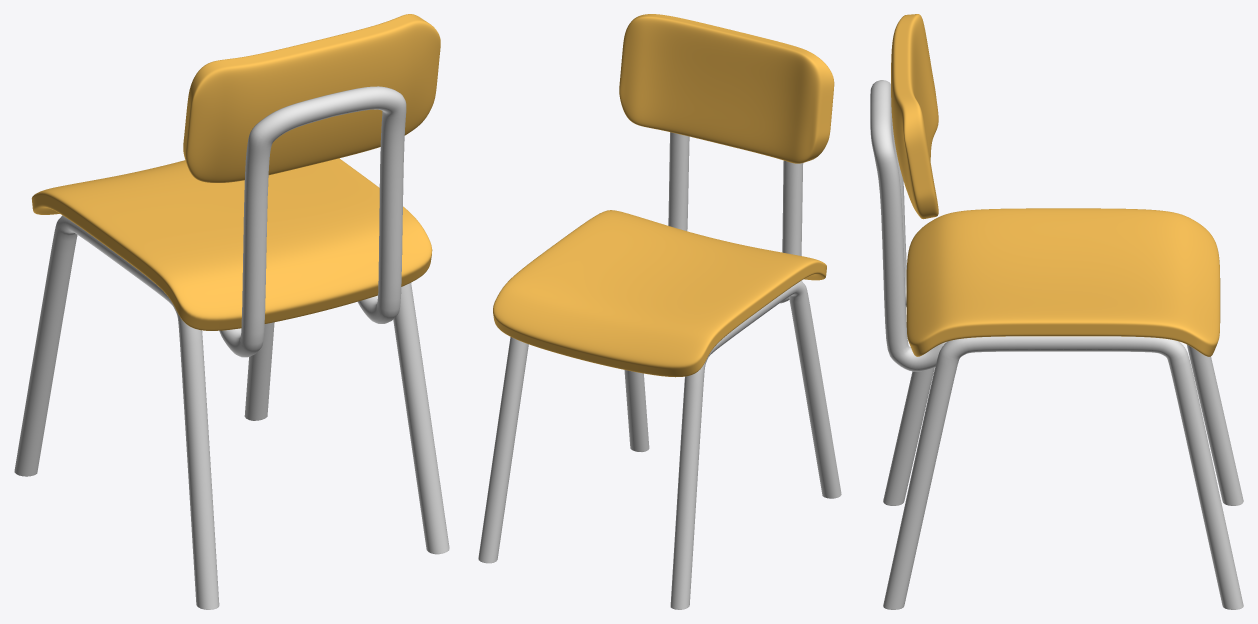
The model's file is Cool Chair.glb.
3 views of the same model, side by side, from view 1: azimuth 30°, elevation 25°; view 2: azimuth 150°, elevation 25°; view 3: azimuth 270°, elevation 25° (orthographic). The views are drawn at different scales.
Visible parts, largest first — view 1: Chair, Chair Head, Chair Legs, Head Support; view 2: Chair, Chair Head, Chair Legs, Head Support; view 3: Chair, Chair Legs, Chair Head, Head Support.
Part boxes in pixels (<box>): Chair: <box>31,158,432,330</box>; Chair Head: <box>183,14,440,182</box>; Chair Legs: <box>14,215,449,609</box>; Head Support: <box>219,86,406,357</box>; Chair: <box>493,210,826,377</box>; Chair Head: <box>619,14,834,163</box>; Chair Legs: <box>478,280,841,609</box>; Head Support: <box>668,132,803,303</box>; Chair: <box>906,208,1220,356</box>; Chair Legs: <box>883,336,1243,609</box>; Chair Head: <box>891,14,938,219</box>; Head Support: <box>870,80,946,371</box>.
Bounding box in the file's own units: 0.5047 × 1.02 × 0.6957.
